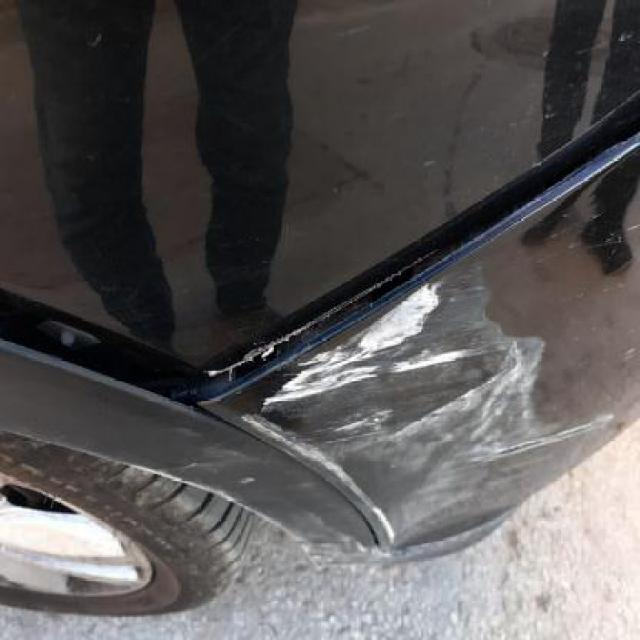car damage: (252, 327, 555, 553)
